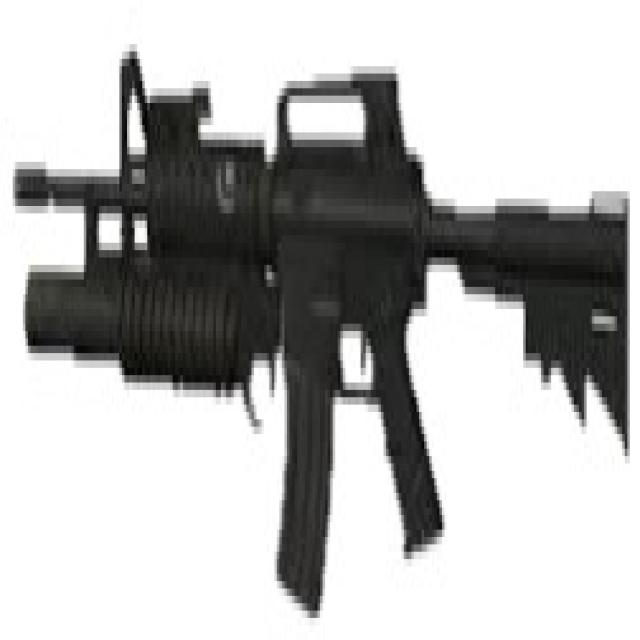rifle: (3, 18, 640, 640)
